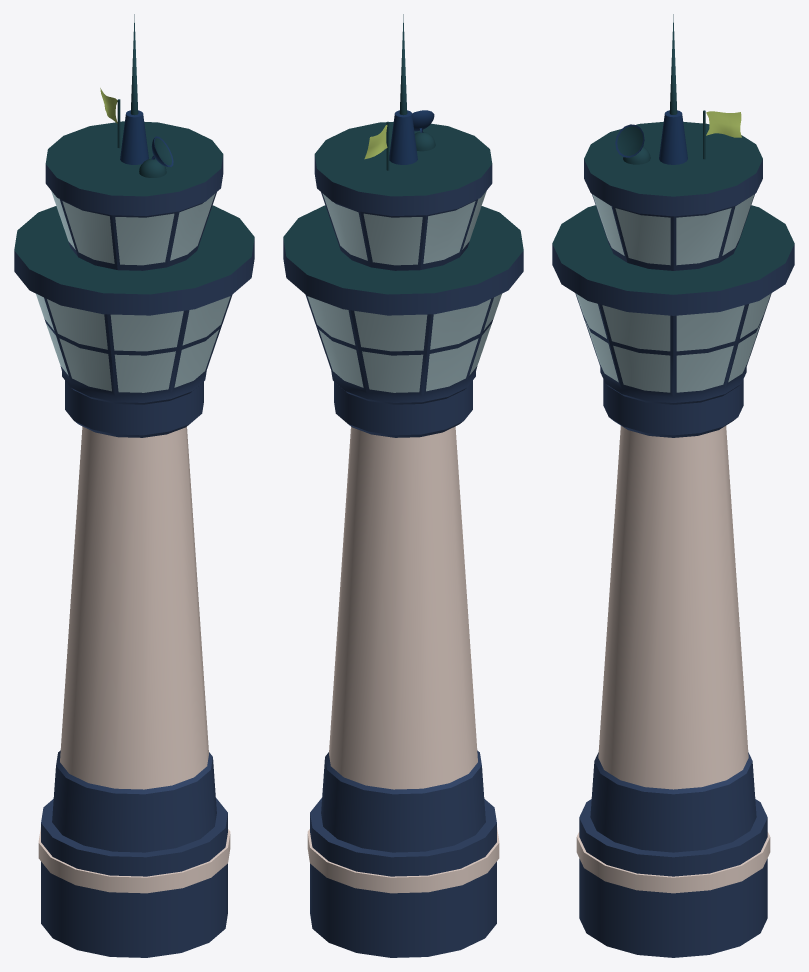
The model's file is 02_ControlTower_AIRPORT_0.obj.
The picture shows the model from 3 angles, left to right: view 1: azimuth 30°, elevation 25°; view 2: azimuth 150°, elevation 25°; view 3: azimuth 270°, elevation 25°; orthographic projection.
Visible parts, largest first — view 1: 02.ControlTower_AIRPORT_0; view 2: 02.ControlTower_AIRPORT_0; view 3: 02.ControlTower_AIRPORT_0.
Part boxes in pixels (<box>): 02.ControlTower_AIRPORT_0: <box>14,14,254,957</box>; 02.ControlTower_AIRPORT_0: <box>283,14,523,957</box>; 02.ControlTower_AIRPORT_0: <box>552,14,794,957</box>.
Size of the model in its own units: 24.45 by 101 by 24.45.
Materials: 1 (1 with a texture image).
